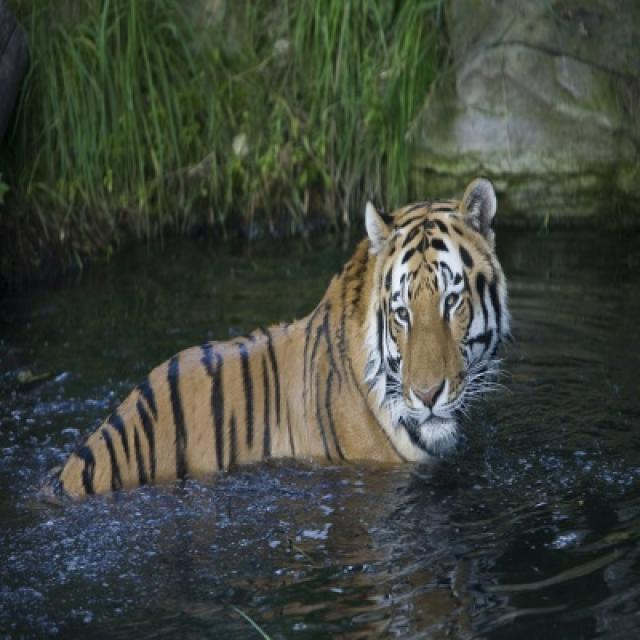Tiger: (51, 178, 509, 496)
